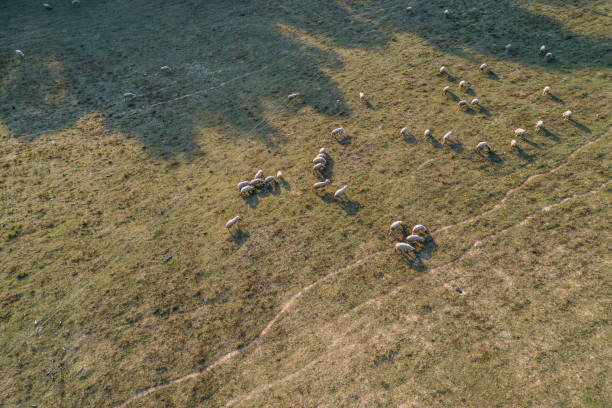sheep: (393, 241, 416, 257), (332, 184, 349, 200), (223, 216, 240, 231), (408, 234, 427, 247), (330, 125, 349, 138), (474, 139, 490, 154), (390, 219, 408, 232), (311, 179, 332, 190), (511, 126, 527, 140), (534, 118, 546, 134), (313, 152, 327, 165), (507, 137, 520, 151), (440, 131, 455, 143), (475, 62, 489, 74), (263, 174, 277, 186), (411, 223, 426, 234), (275, 170, 285, 186), (235, 177, 248, 189), (13, 47, 25, 60), (313, 157, 328, 167), (454, 98, 469, 108), (562, 110, 575, 121), (239, 186, 252, 197), (254, 168, 268, 178), (39, 1, 53, 11), (313, 162, 324, 174), (435, 63, 446, 75), (439, 83, 452, 93), (395, 127, 409, 136), (472, 96, 482, 108), (500, 41, 512, 51), (405, 6, 414, 19), (249, 178, 263, 186), (124, 93, 138, 101), (459, 79, 469, 90), (537, 43, 547, 54), (544, 52, 553, 64), (543, 85, 551, 98), (289, 92, 298, 102), (358, 89, 365, 101), (162, 65, 170, 75), (444, 10, 451, 21), (424, 129, 431, 138), (316, 146, 328, 150)
